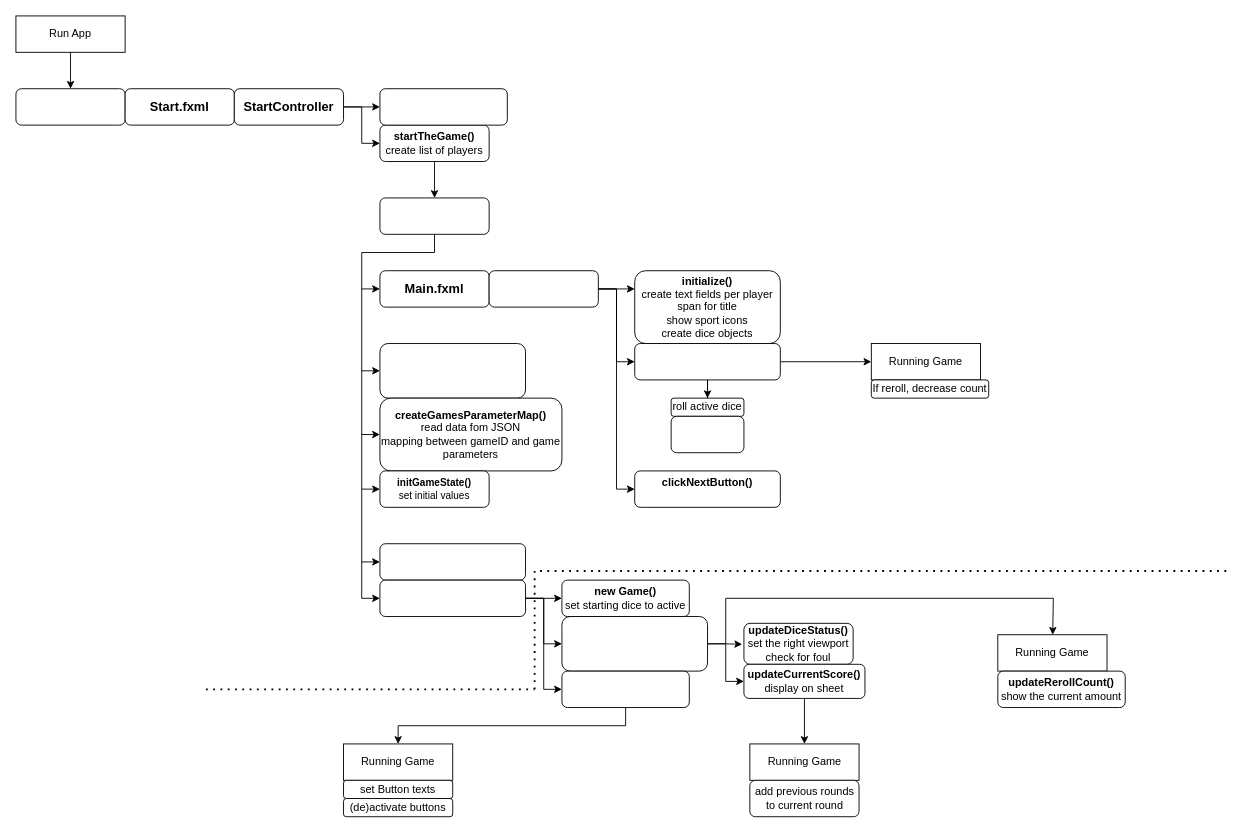
Image size: 1244x833. Some labels were removed from this diagram. The centre of each missing label's shape, as x and y in pixels:
"clickRollButton() set flag rolled to true" goes at point (707, 361).
"createPlayerPointsMap() mapping between players and textfields" goes at point (452, 370).
"doBackgroundTasks() update total score of players highlight the active game" goes at point (634, 643).
"game.playGame()" goes at point (625, 689).
"getTimeLine()" goes at point (452, 561).
"MainController" goes at point (543, 288).
"MainScene" goes at point (434, 215).
"rollDie() check for foul" goes at point (707, 434).
"setPlayerNumber() show and hide text fields" goes at point (443, 106).
"StartScene" goes at point (70, 106).
"timeLine.play() if gameOver start new game" goes at point (452, 598).
